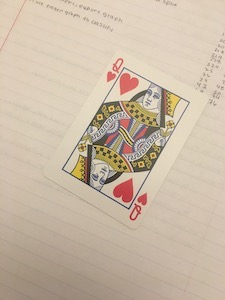QueenOfHearts: (40, 49, 210, 229)
